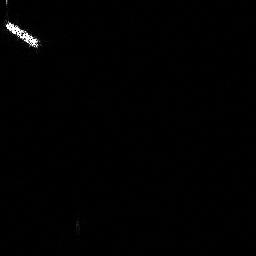ship: (4, 21, 40, 48)
